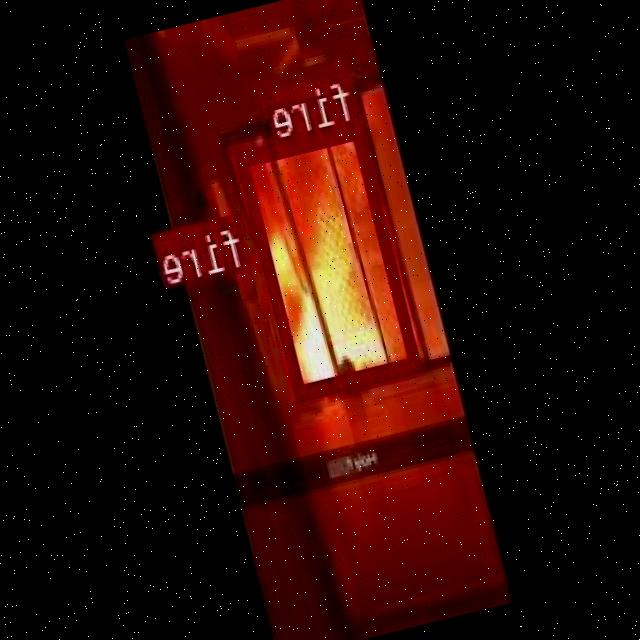fire: (236, 116, 424, 398), (241, 266, 258, 293)
